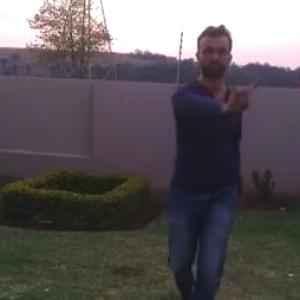takeoff-hand: (220, 70, 266, 118)
